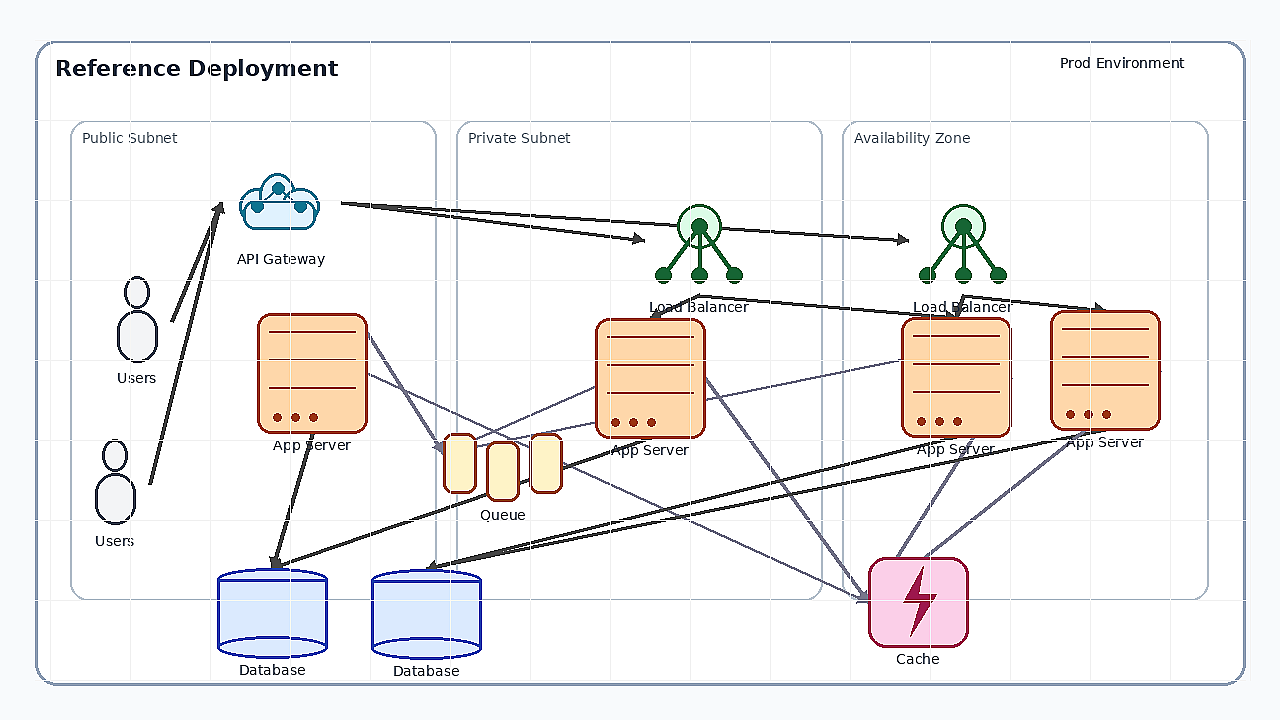API Gateway: (221, 157, 341, 247)
Application Server: (257, 313, 367, 433), (595, 318, 705, 438), (901, 317, 1011, 437), (1050, 310, 1160, 430)
Cache: (868, 557, 968, 647)
Database: (371, 569, 481, 659), (217, 568, 327, 658)
Load Balancer: (644, 185, 754, 295), (908, 185, 1018, 295)
Message Queue: (443, 433, 563, 503)
User: (102, 276, 172, 366), (80, 439, 150, 529)
